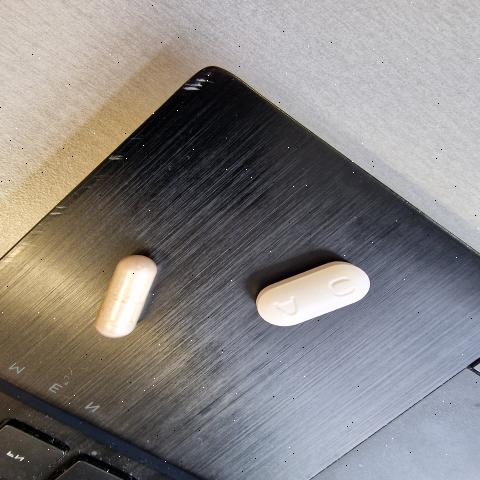Pill: (243, 240, 397, 355), (56, 231, 190, 354)
